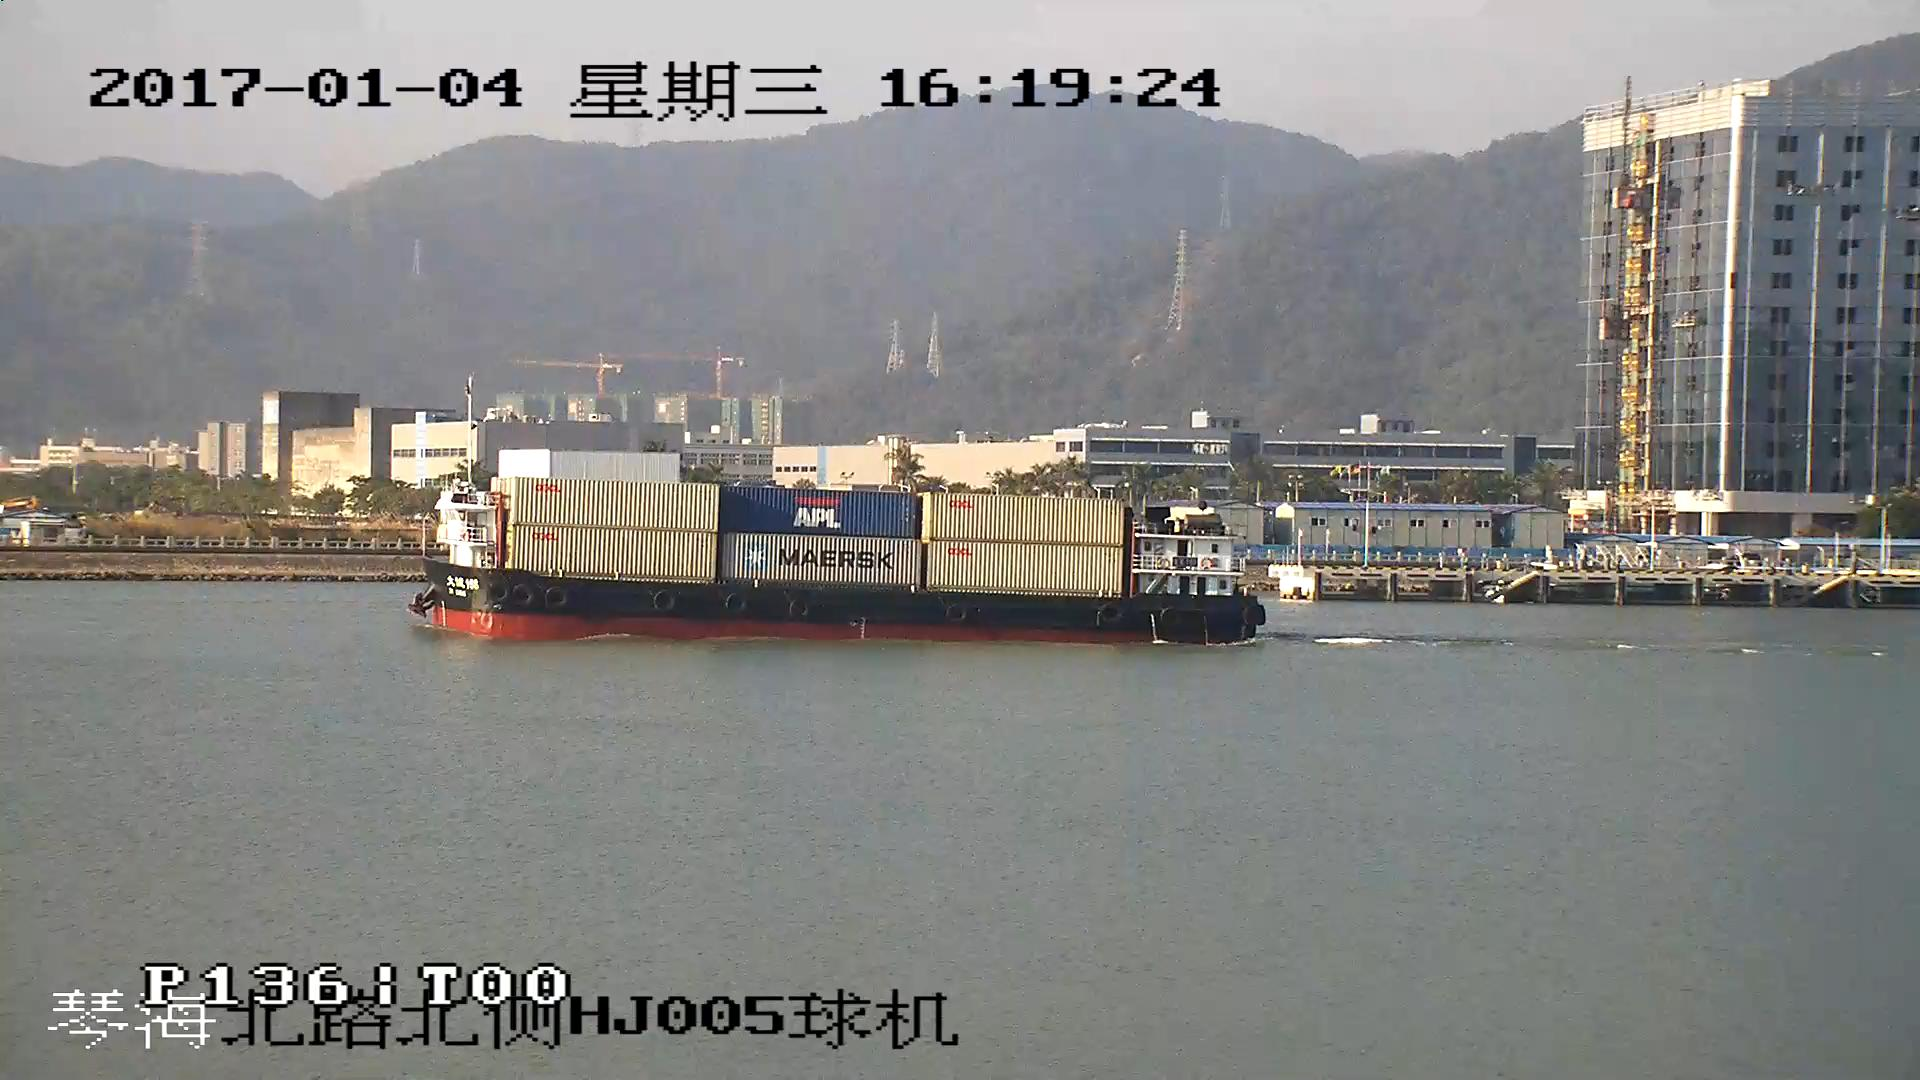container ship: (412, 473, 1266, 643)
